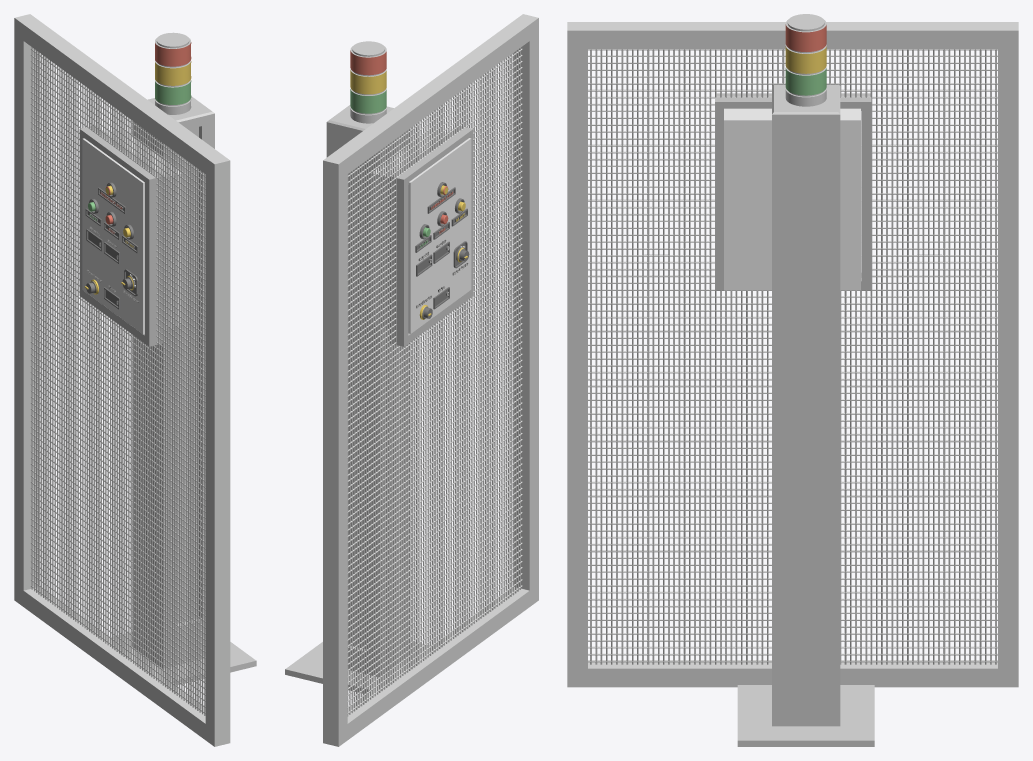
File: Grid_control.glb
The picture shows the model from 3 angles, left to right: view 1: azimuth 30°, elevation 25°; view 2: azimuth 150°, elevation 25°; view 3: azimuth 270°, elevation 25°; orthographic projection. The views are drawn at different scales.
Parts seen in each view (by area): view 1: Body1.001, Body2, Body1, Body108, Body16.001, Body59, Body72, Body6.001, Body62, Body19.001, Body75, Body9.001 (+69 smaller); view 2: Body1.001, Body2, Body1, Body108, Body67, Body77, Body11.001, Body21.001, Body24.001, Body64, Body3, Body74 (+69 smaller); view 3: Body1.001, Body2, Body1, Body3, Body108, Body12.001, Body62, Body69, Body5.001, Body79, Body16.001, Body21.001 (+54 smaller).
Part boxes in pixels (x1=…): Body1.001: x1=14, y1=14, x2=230, y2=746; Body2: x1=132, y1=32, x2=214, y2=668; Body1: x1=82, y1=129, x2=181, y2=334; Body108: x1=79, y1=125, x2=164, y2=346; Body16.001: x1=63, y1=70, x2=65, y2=613; Body59: x1=162, y1=143, x2=164, y2=685; Body72: x1=192, y1=165, x2=194, y2=707; Body6.001: x1=40, y1=54, x2=42, y2=596; Body62: x1=169, y1=148, x2=171, y2=690; Body19.001: x1=70, y1=76, x2=72, y2=618; Body75: x1=199, y1=170, x2=201, y2=712; Body9.001: x1=47, y1=59, x2=49, y2=601; Body1.001: x1=323, y1=14, x2=538, y2=746; Body2: x1=326, y1=41, x2=408, y2=677; Body1: x1=371, y1=129, x2=471, y2=333; Body108: x1=390, y1=126, x2=473, y2=346; Body67: x1=489, y1=69, x2=491, y2=611; Body77: x1=512, y1=52, x2=514, y2=595; Body11.001: x1=360, y1=164, x2=362, y2=706; Body21.001: x1=383, y1=147, x2=385, y2=689; Body24.001: x1=390, y1=142, x2=392, y2=684; Body64: x1=482, y1=74, x2=484, y2=616; Body3: x1=285, y1=641, x2=429, y2=693; Body74: x1=505, y1=58, x2=507, y2=600; Body1.001: x1=567, y1=22, x2=1018, y2=687; Body2: x1=772, y1=14, x2=840, y2=726; Body1: x1=724, y1=108, x2=860, y2=290; Body3: x1=737, y1=685, x2=874, y2=746; Body108: x1=715, y1=93, x2=871, y2=290; Body12.001: x1=943, y1=49, x2=945, y2=664; Body62: x1=683, y1=49, x2=685, y2=664; Body69: x1=647, y1=49, x2=649, y2=664; Body5.001: x1=979, y1=49, x2=981, y2=664; Body79: x1=595, y1=49, x2=597, y2=664; Body16.001: x1=922, y1=49, x2=924, y2=664; Body21.001: x1=896, y1=49, x2=898, y2=664.
Size of the model in its own units: 0.485 by 2.25 by 1.32.
